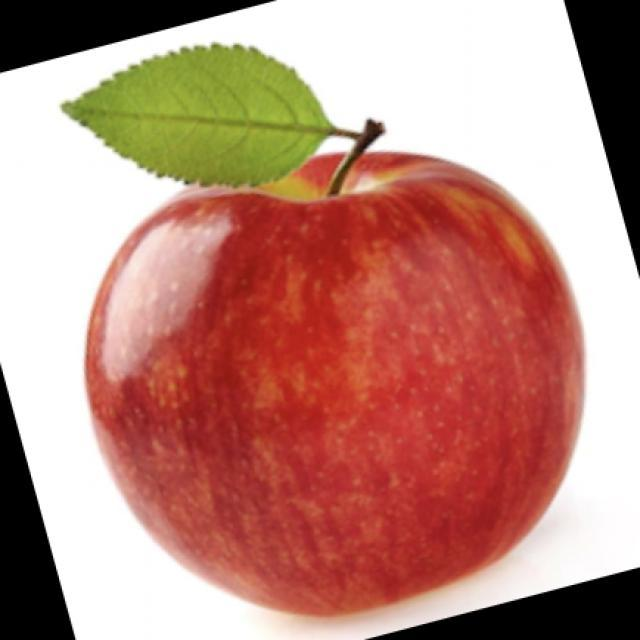Fresh Apple: (94, 130, 564, 588)
